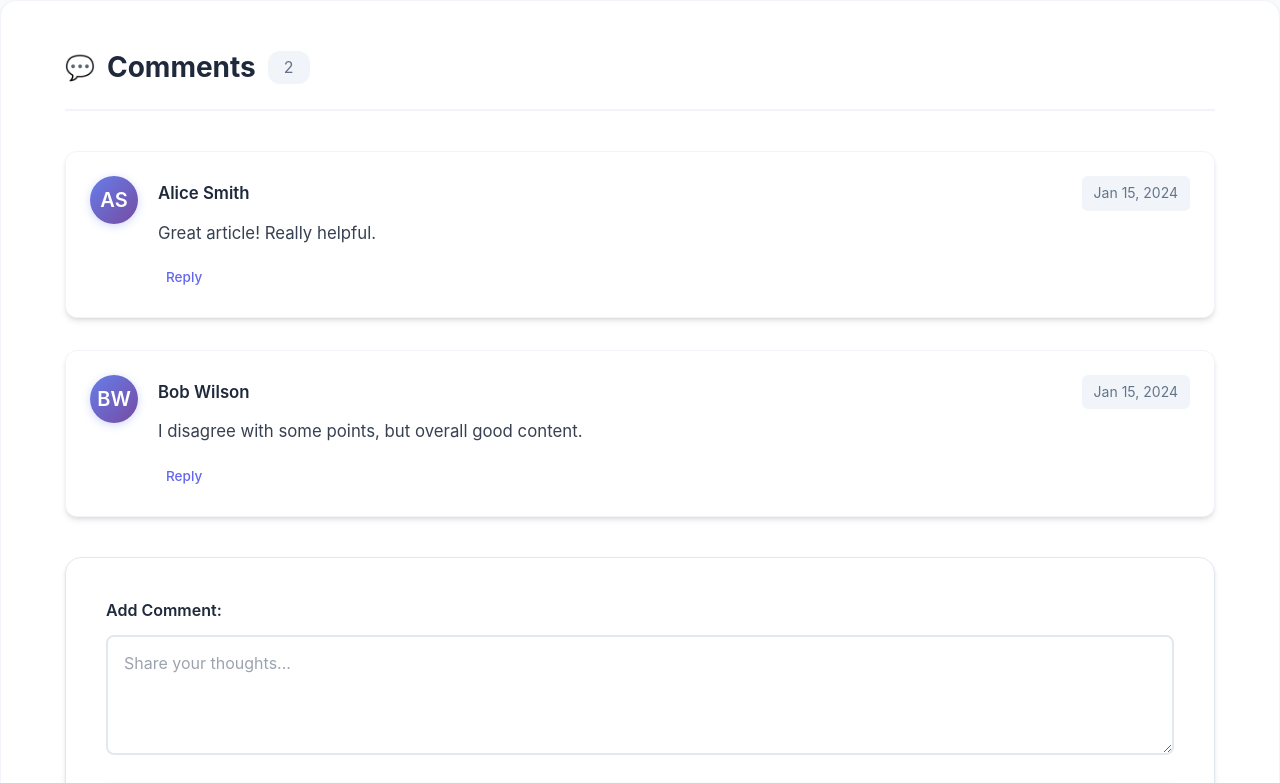
it: Comments Component - Advanced Tests › handles comment submission errors
Type "This comment will fail" into the text box with placeholder "Share your thoughts...".
click(640, 695); type("This comment will fail")  # box x1=106 y1=635 x2=1174 y2=755
(page scrolled)
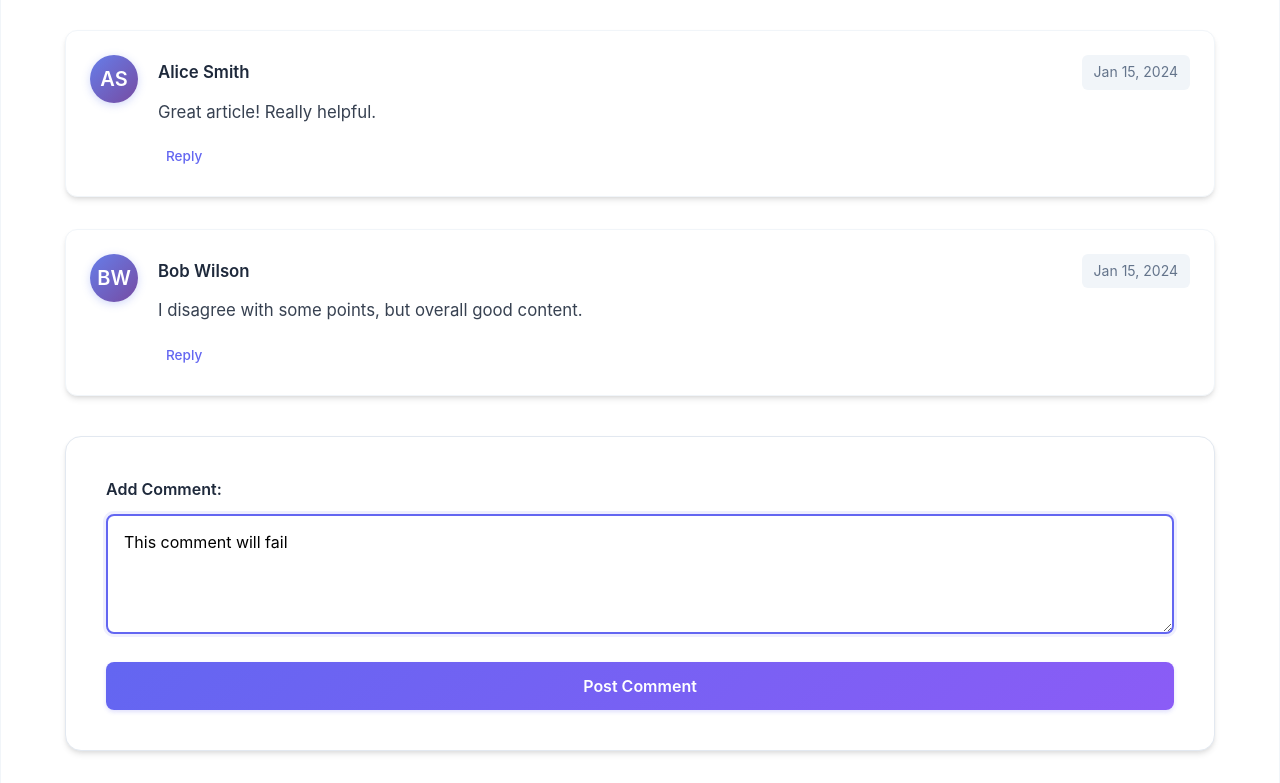
Click the button "Post Comment".
click(640, 686)  # box x1=106 y1=662 x2=1174 y2=710
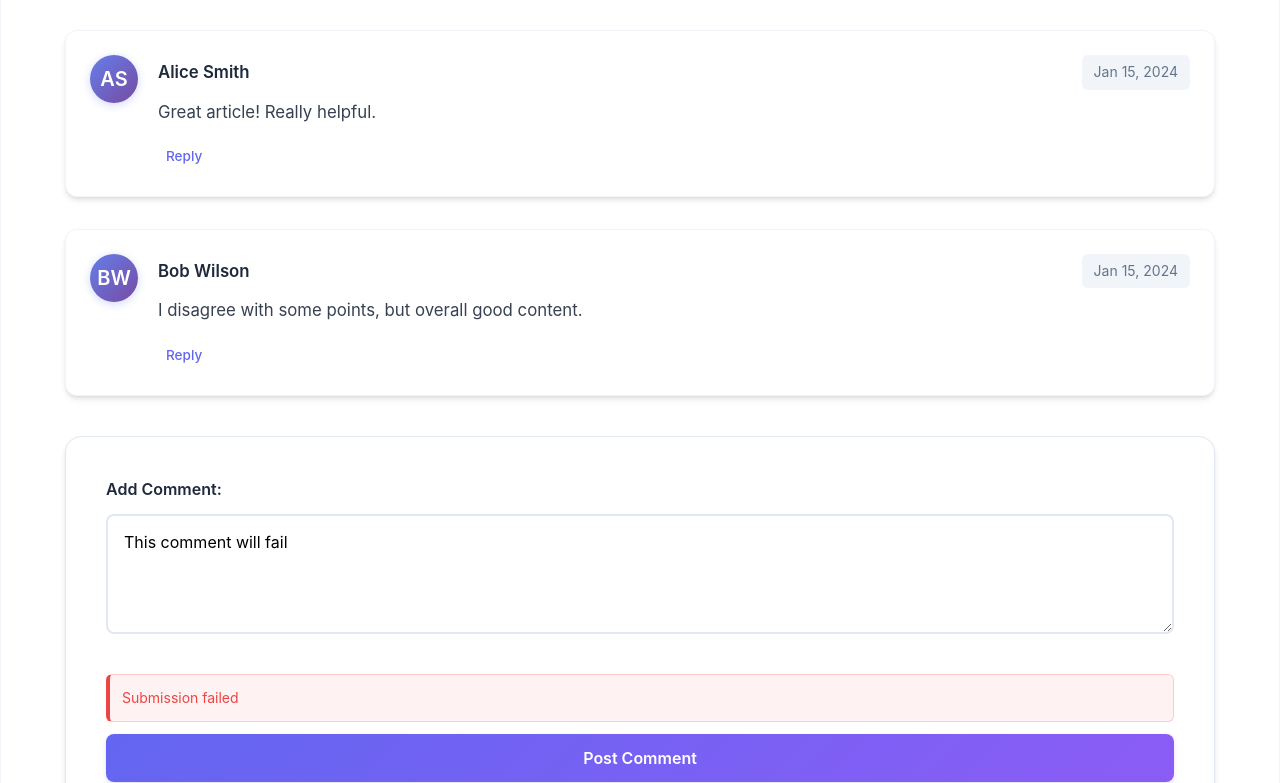
Expected: the text "Submission failed" is shown, x1=106 y1=674 x2=1174 y2=722
